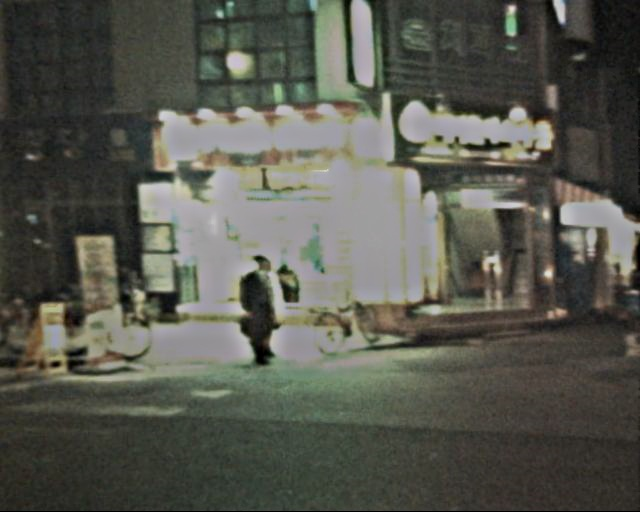person: (220, 249, 284, 371)
